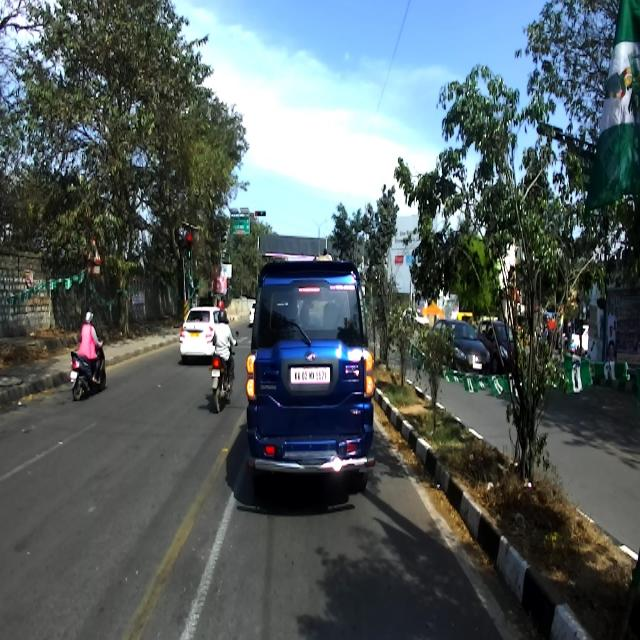car: (245, 260, 376, 503), (430, 317, 490, 377)
motorcycle: (209, 329, 239, 414)
scooter: (66, 336, 106, 400)
